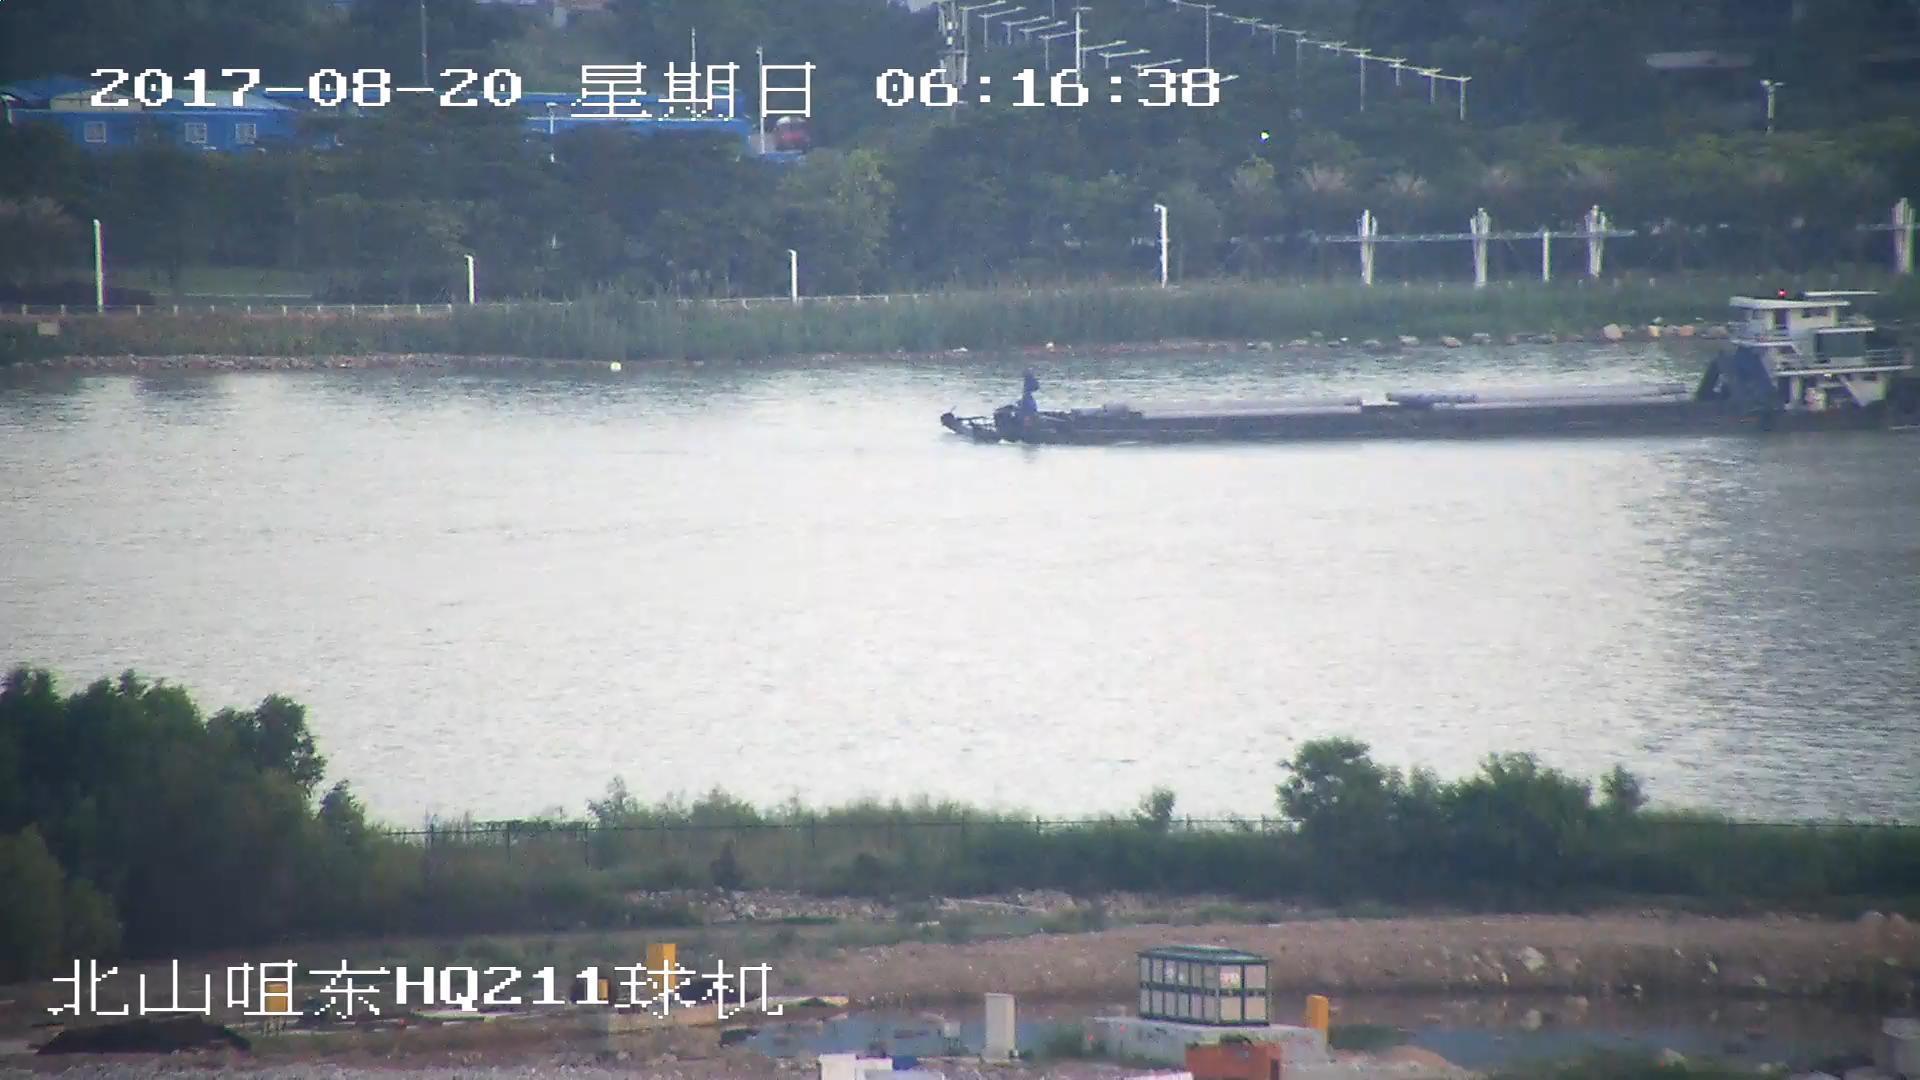Ship: (943, 294, 1920, 442)
